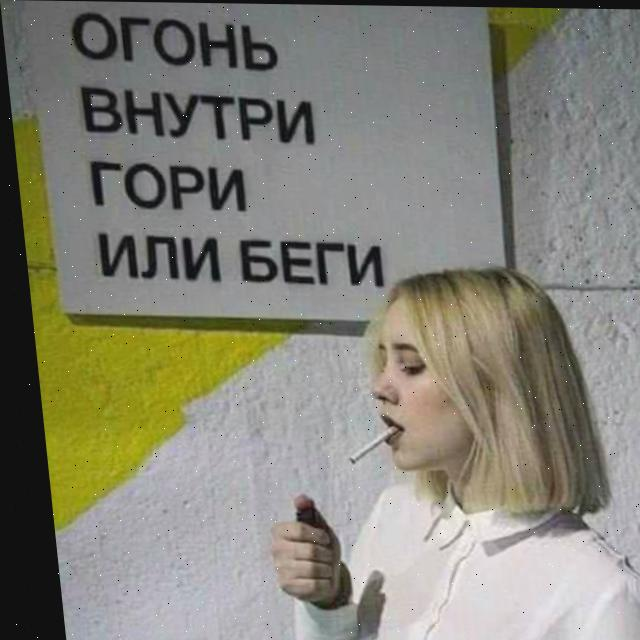cigarette: (336, 425, 394, 465)
